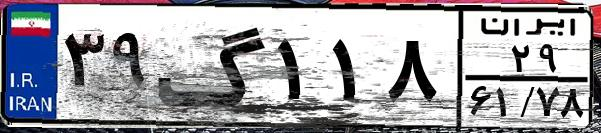1: (270, 28, 330, 110), (330, 28, 385, 110), (495, 70, 520, 125)
2: (508, 27, 537, 80)
3: (57, 26, 110, 100)
6: (470, 70, 495, 125)
7: (535, 70, 560, 125)
8: (385, 28, 445, 110), (560, 70, 590, 125)
9: (110, 28, 156, 98), (537, 27, 568, 80)
گ: (156, 12, 270, 120)
